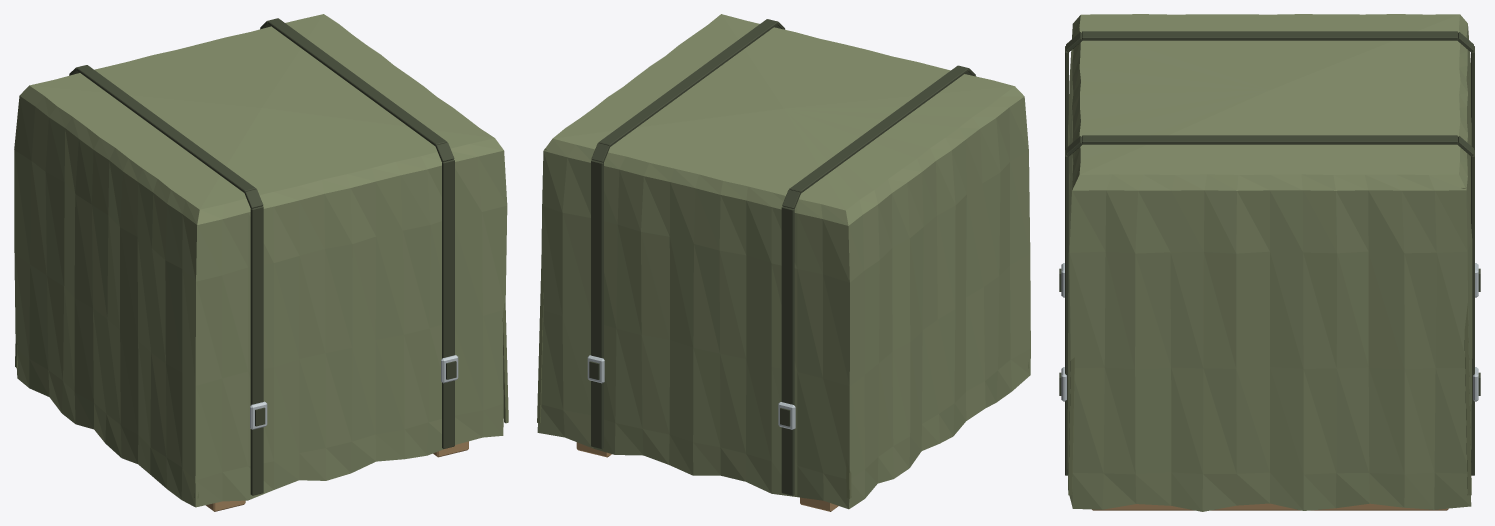
The model's file is 02_crate_canvas_large.glb.
3 renders of one model, left to right at view 1: azimuth 30°, elevation 25°; view 2: azimuth 150°, elevation 25°; view 3: azimuth 270°, elevation 25°, orthographic. The views are drawn at different scales.
Parts seen in each view (by area): view 1: 02_crate_canvas_large; view 2: 02_crate_canvas_large; view 3: 02_crate_canvas_large.
Boxes of the visible parts, x1,y1,x2,y2 form: 02_crate_canvas_large: [14, 14, 508, 511]; 02_crate_canvas_large: [537, 14, 1030, 511]; 02_crate_canvas_large: [1059, 14, 1480, 511].
Size of the model in its own units: 1.74 by 1.69 by 1.81.
